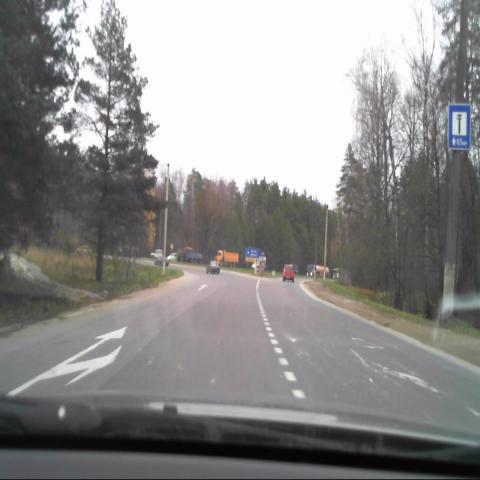7_4: (449, 100, 472, 149)
